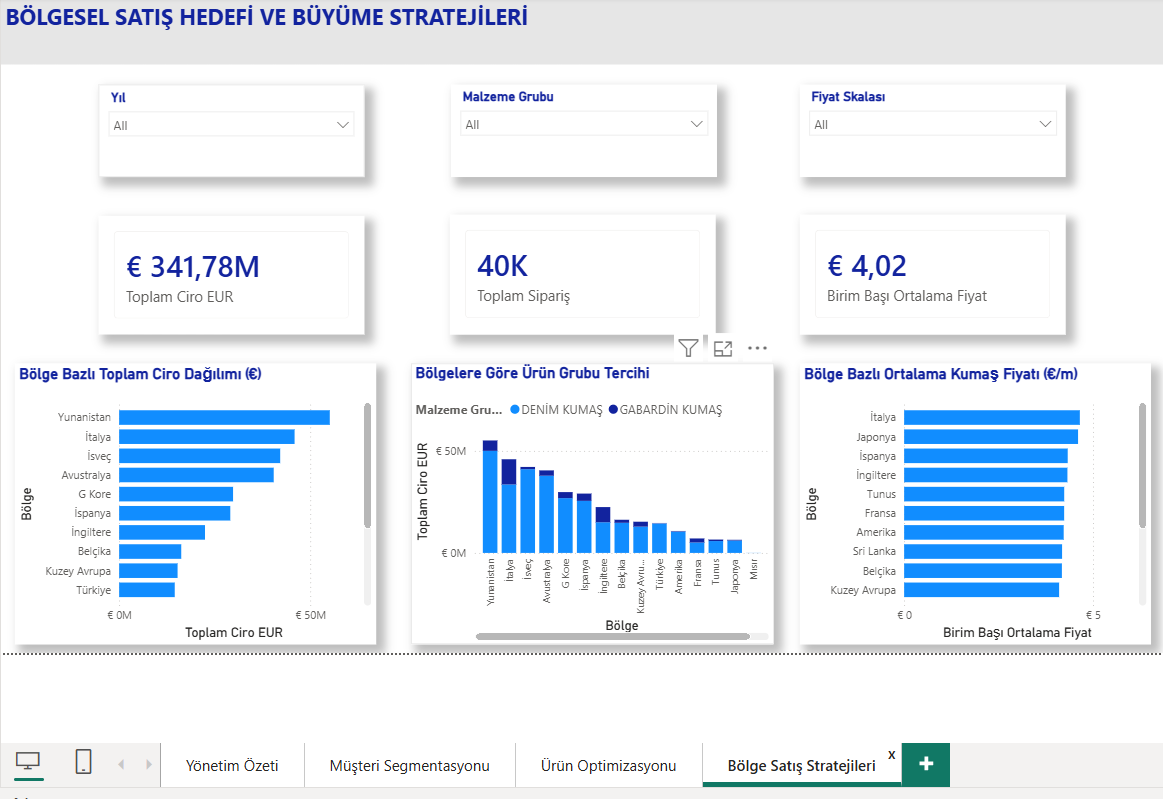

What the dashboard file says about the page in this screenshot:
{"tool":"powerbi","page":{"name":"Bölge Satış Stratejileri","canvas":[1280,720],"ordinal":3},"visuals":[{"type":"shape","box":[0,0,1280.3,65.9],"z":0},{"type":"textbox","box":[0,0,1280.3,49.4],"z":1},{"type":"slicer","fields":{"Values":["Satış Verileri.Faturalama Tarihi.Variation.Date Hierarchy.Year"]},"box":[107,96.1,291.7,101.3],"z":2},{"type":"slicer","fields":{"Values":["Ürün Detay.Malzeme Grubu"]},"box":[494,96.1,292.3,101.5],"z":3},{"type":"slicer","fields":{"Values":["Satış Verileri.Fiyat Skalası"]},"box":[876.8,96.1,292.3,101.5],"z":4},{"type":"cardVisual","fields":{"Data":["Satış Verileri.Toplam Ciro EUR"]},"box":[107,240.1,292.3,130.4],"z":5},{"type":"cardVisual","fields":{"Data":["Satış Verileri.Toplam Sipariş"]},"box":[491.9,238.8,292.3,131.7],"z":6},{"type":"cardVisual","fields":{"Data":["Satış Verileri.Birim Başı Ortalama Fiyat"]},"box":[876.8,238.8,292.3,131.7],"z":7},{"type":"clusteredBarChart","title":"Bölge Bazlı Toplam Ciro Dağılımı (€)","fields":{"Category":["Satış Verileri.Bölge"],"Y":["Satış Verileri.Toplam Ciro EUR"]},"box":[15.1,402.1,396.6,308.7],"z":8},{"type":"columnChart","title":"Bölgelere Göre Ürün Grubu Tercihi","fields":{"Category":["Satış Verileri.Bölge"],"Series":["Ürün Detay.Malzeme Grubu"],"Y":["Satış Verileri.Toplam Ciro EUR"]},"box":[450.1,402.1,397.9,308.7],"z":9},{"type":"clusteredBarChart","title":"Bölge Bazlı Ortalama Kumaş Fiyatı (€/m)","fields":{"Category":["Satış Verileri.Bölge"],"Y":["Satış Verileri.Birim Başı Ortalama Fiyat"]},"box":[876.8,402.1,385.6,308.7],"z":10}]}

Visuals, with their boxes on the page's 1280x720 design canvas (x1, y1, x2, y2). These are canvas units, not pixel positions in the 1163x799 screenshot, which may show the page scaled, cropped or inside an application window:
shape: (x1=0, y1=0, x2=1280, y2=66)
textbox: (x1=0, y1=0, x2=1280, y2=49)
slicer - Satış Verileri.Faturalama Tarihi.Variation.Date Hierarchy.Year: (x1=107, y1=96, x2=399, y2=197)
slicer - Ürün Detay.Malzeme Grubu: (x1=494, y1=96, x2=786, y2=198)
slicer - Satış Verileri.Fiyat Skalası: (x1=877, y1=96, x2=1169, y2=198)
cardVisual - Satış Verileri.Toplam Ciro EUR: (x1=107, y1=240, x2=399, y2=370)
cardVisual - Satış Verileri.Toplam Sipariş: (x1=492, y1=239, x2=784, y2=370)
cardVisual - Satış Verileri.Birim Başı Ortalama Fiyat: (x1=877, y1=239, x2=1169, y2=370)
"Bölge Bazlı Toplam Ciro Dağılımı (€)" clusteredBarChart: (x1=15, y1=402, x2=412, y2=711)
"Bölgelere Göre Ürün Grubu Tercihi" columnChart: (x1=450, y1=402, x2=848, y2=711)
"Bölge Bazlı Ortalama Kumaş Fiyatı (€/m)" clusteredBarChart: (x1=877, y1=402, x2=1262, y2=711)
